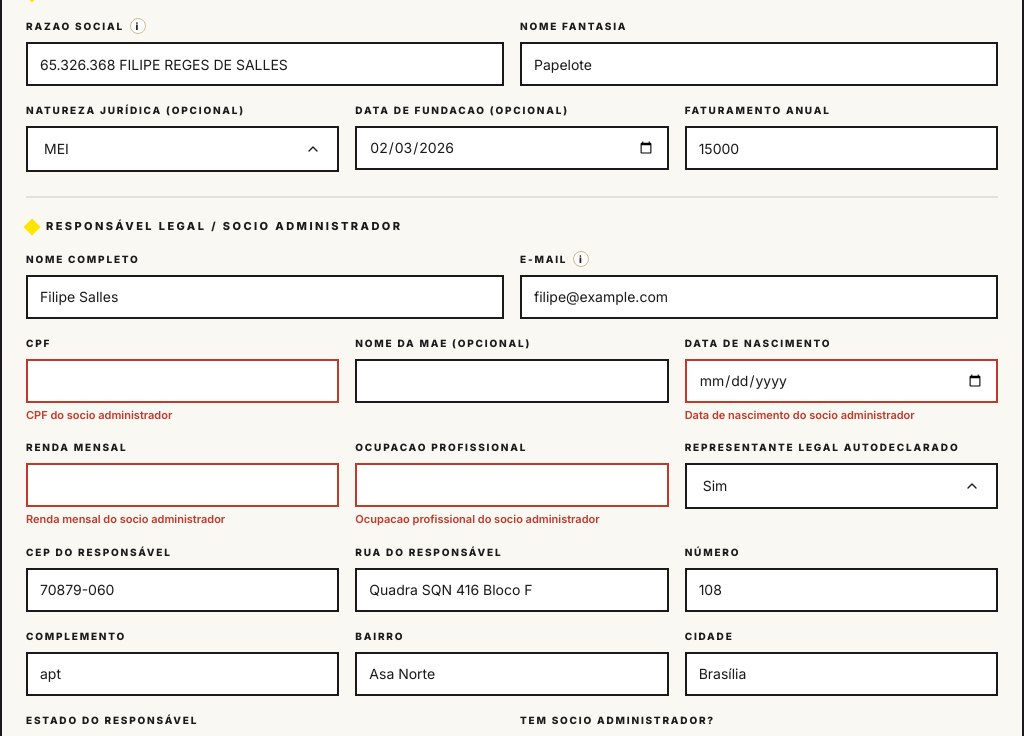
Scenario: VendorPendingRegistrationModalHost — erro visual dos campos pendentes › mantém o erro enquanto o CPF ainda está incompleto
(page scrolled)
Type "037122" into the field labelled "CPF CPF do socio administrador".
click(183, 381); type("037122")  # box [26,359,339,403]
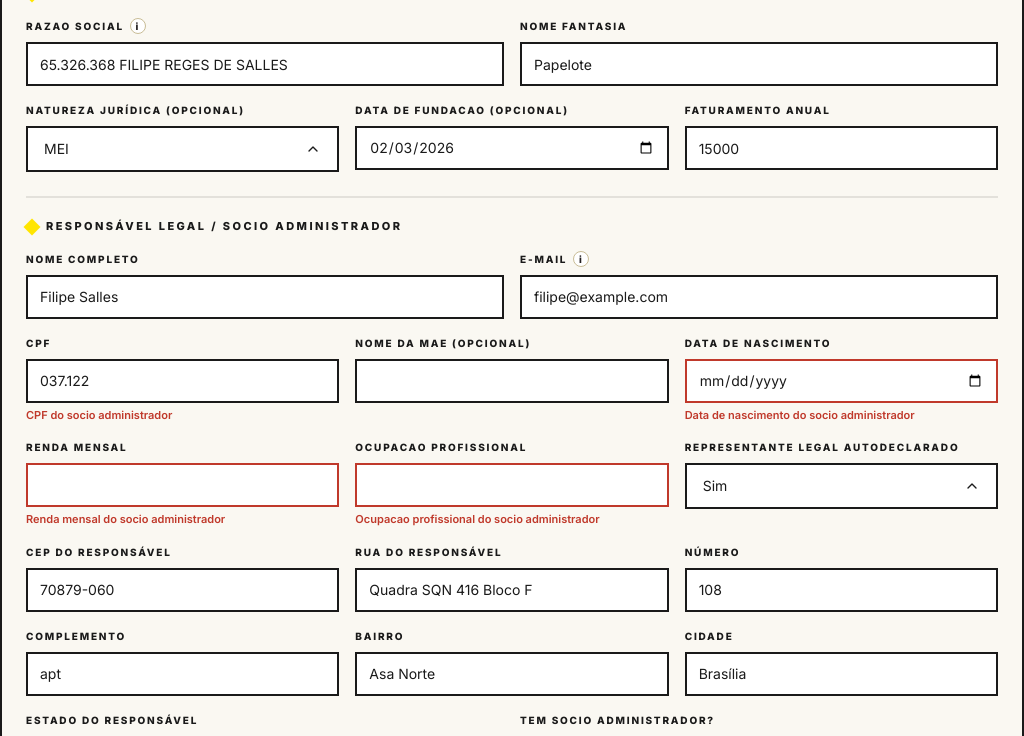
Expected: the text "CPF do socio administrador" is shown, [26,408,172,422]
Expected: the field labelled "CPF CPF do socio administrador" holds "037.122", [26,359,339,403]
